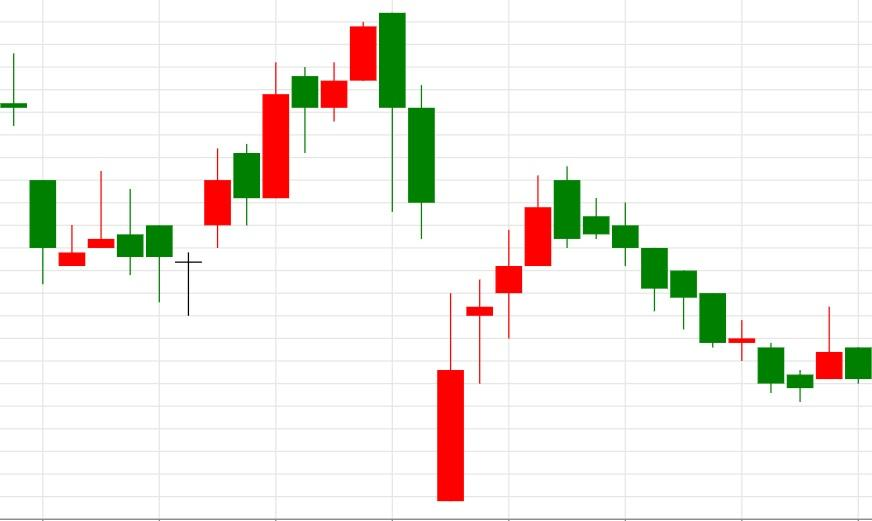bearish_engulfing_fall: (173, 12, 406, 316)
